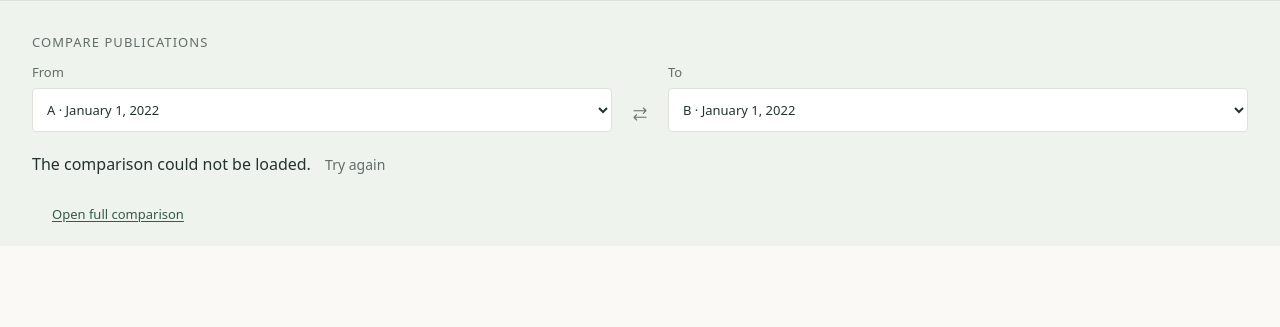
Test case: offers retry after a network failure
Check: the message shows "could not be loaded", box [32, 153, 311, 175]
Click the button "Try again": (355, 165) [315, 147, 395, 183]
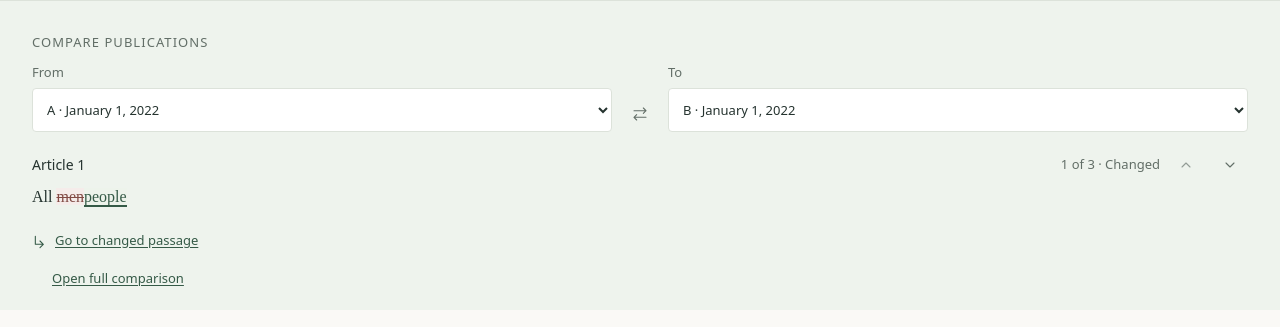
Check: the text "people" is shown, box [84, 188, 127, 207]
